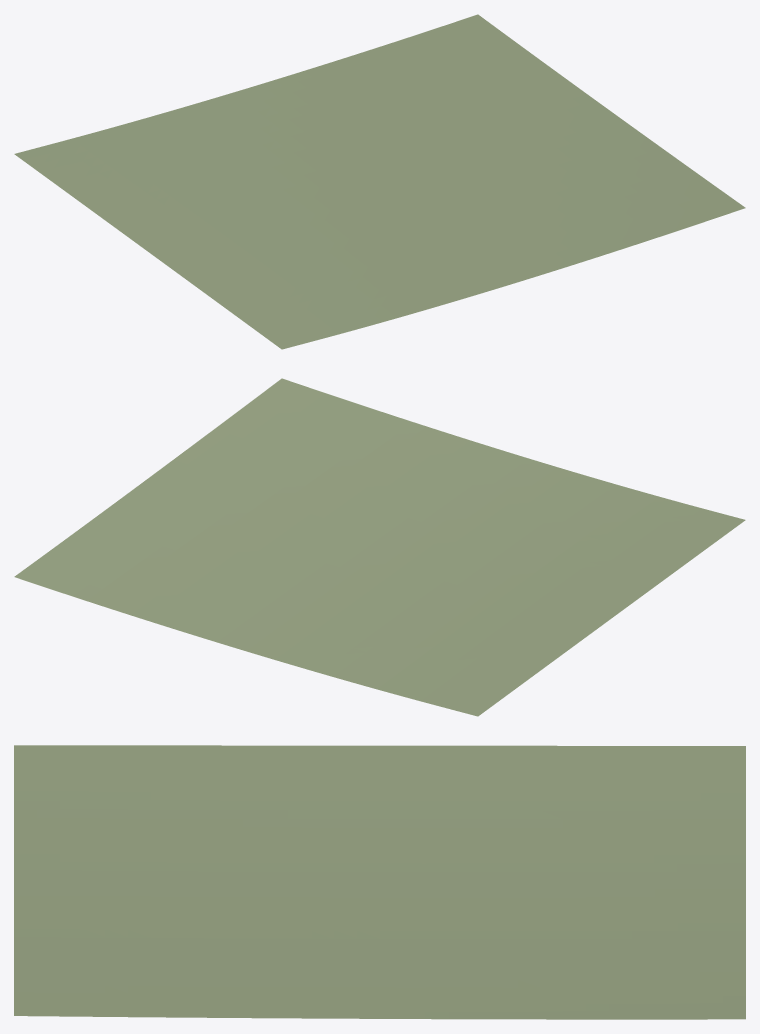
The model's file is desert-10-22.glb.
3 views of the same model, one above another, from view 1: azimuth 30°, elevation 25°; view 2: azimuth 150°, elevation 25°; view 3: azimuth 270°, elevation 25° (orthographic). The views are drawn at different scales.
Visible parts, largest first — view 1: desert-10-22; view 2: desert-10-22; view 3: desert-10-22.
Boxes of the visible parts, box(x1,y1,x2,y2) form: desert-10-22: box(14, 14, 745, 349); desert-10-22: box(14, 378, 745, 716); desert-10-22: box(14, 745, 745, 1019).
Size of the model in its own units: 512 by 30.47 by 512.
